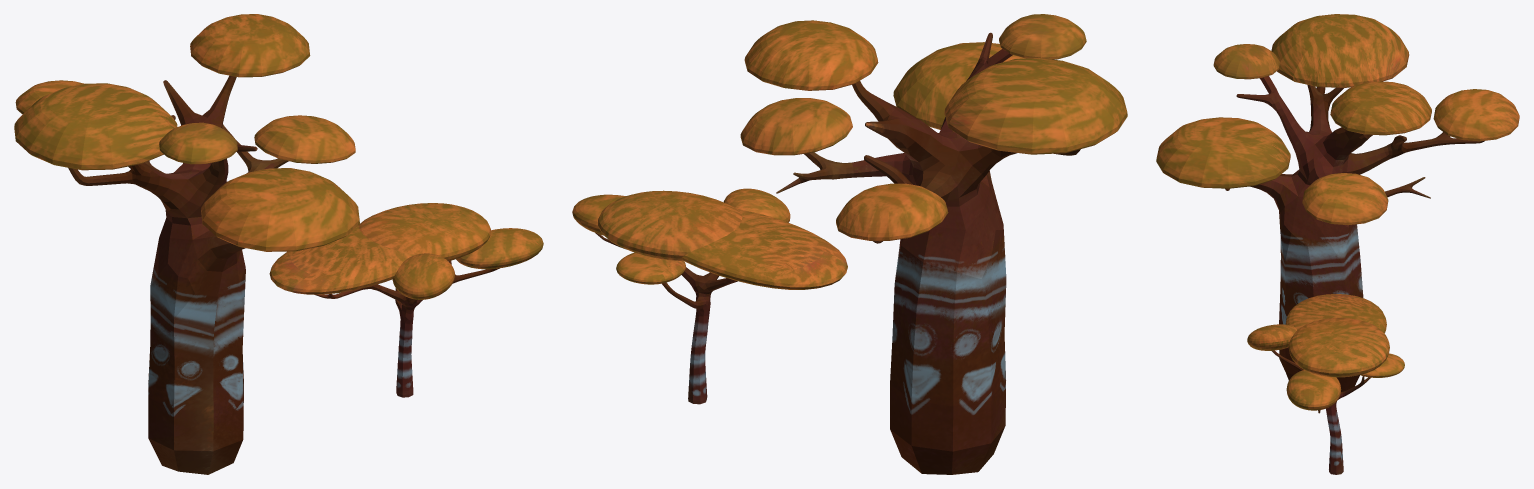
The model's file is TreesTexture.fbx.
3 views of the same model, side by side, from view 1: azimuth 30°, elevation 25°; view 2: azimuth 150°, elevation 25°; view 3: azimuth 270°, elevation 25° (orthographic). The views are drawn at different scales.
Visible parts, largest first — view 1: trees; view 2: trees; view 3: trees.
Boxes of the visible parts, x1,y1,x2,y2 form: trees: (14, 14, 543, 474); trees: (572, 14, 1127, 474); trees: (1156, 14, 1519, 474).
Size of the model in its own units: 2758 by 2100 by 2026.
Materials: 1 (1 with a texture image).
